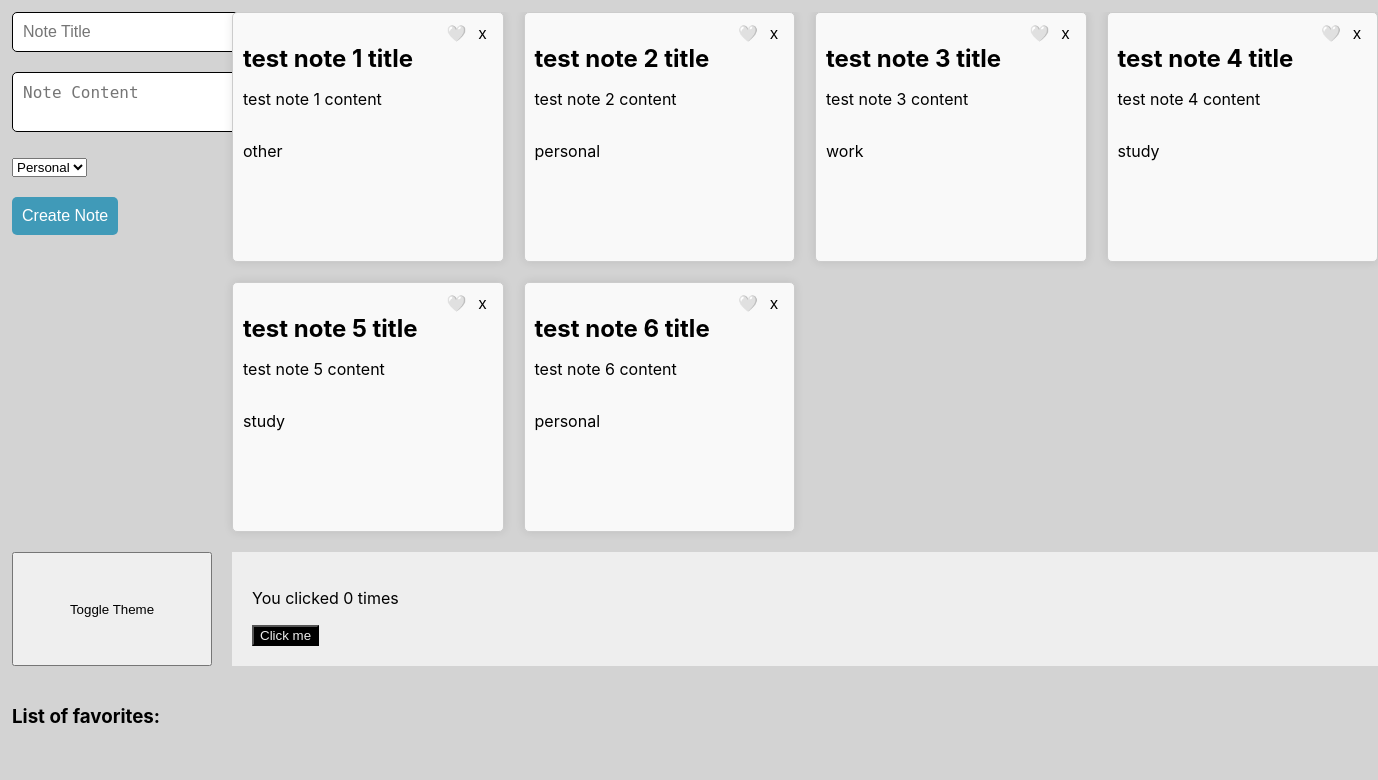
Test: create stickyNote › favorite first note, delete it, and check if favorite state is empty
Click the 1st button "🤍".
click(456, 34)  # box [440,23,472,44]
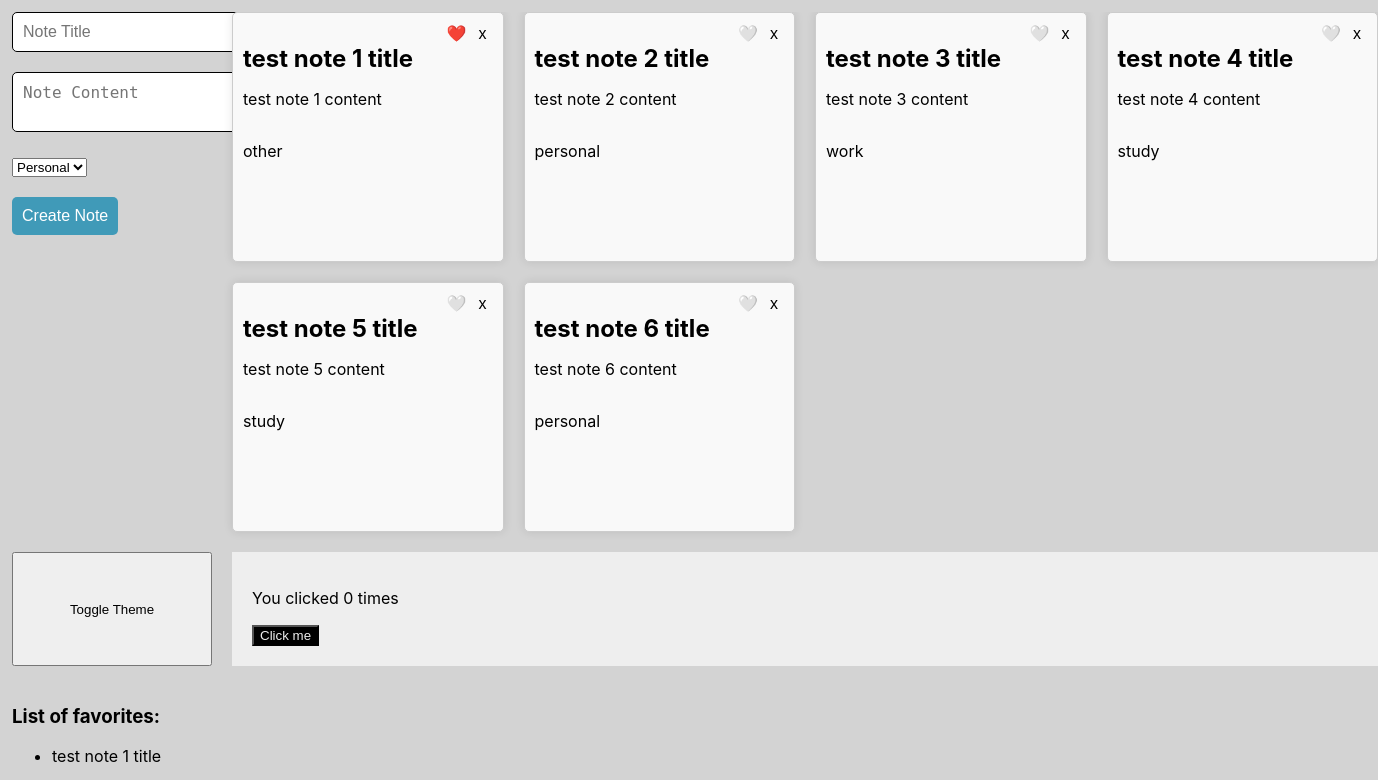
Expected: the button "❤️" is shown, [440,23,472,44]
Note: delete first note
Click the 1st button "x".
click(482, 34)  # box [472,23,492,44]
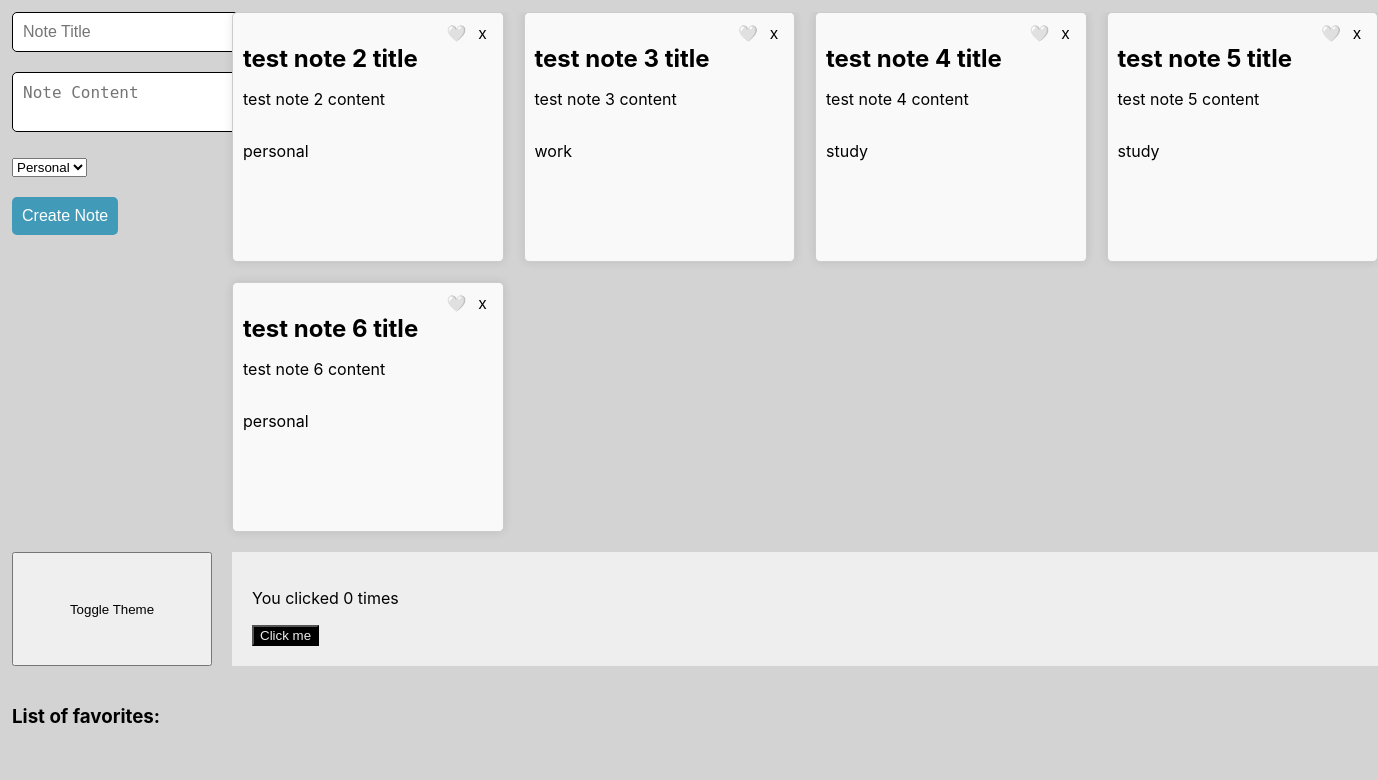
Expected: the heading "test note 1 title" is gone
